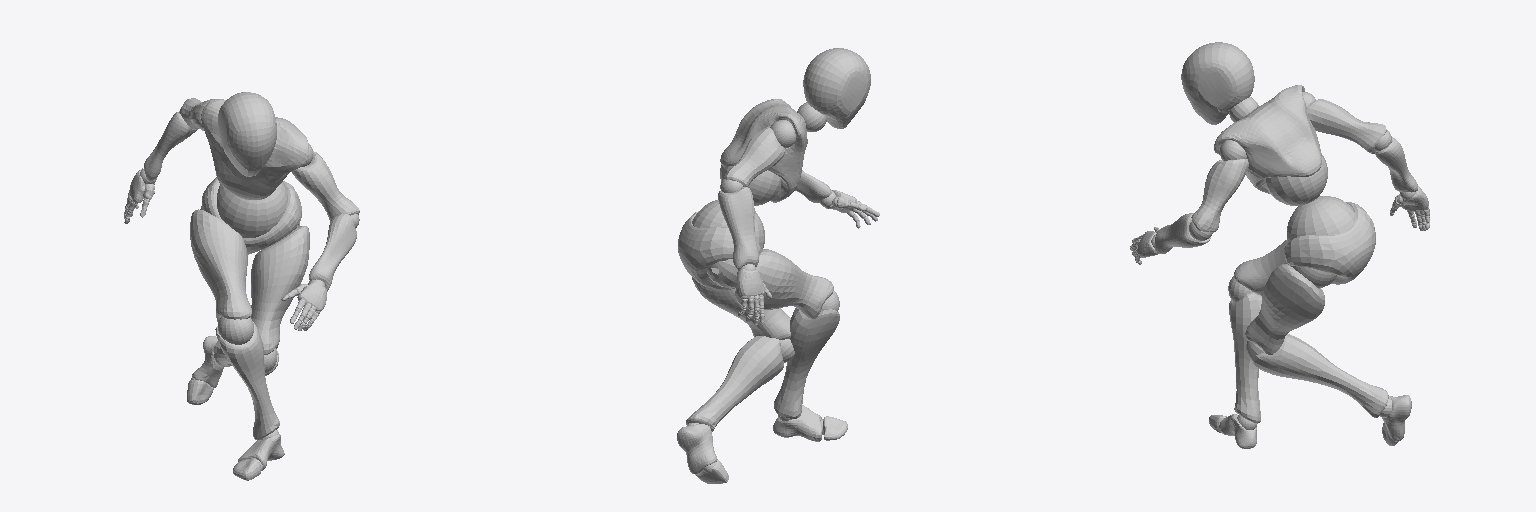
3 views of the same model, side by side, from view 1: azimuth 30°, elevation 25°; view 2: azimuth 150°, elevation 25°; view 3: azimuth 270°, elevation 25° (orthographic).
Visible parts, largest first — view 1: Beta_Surface, Beta_Joints; view 2: Beta_Surface, Beta_Joints; view 3: Beta_Surface, Beta_Joints.
Boxes of the visible parts, <box> form: Beta_Surface: <box>124,92,359,480</box>; Beta_Joints: <box>124,107,359,470</box>; Beta_Surface: <box>677,48,879,483</box>; Beta_Joints: <box>687,102,874,472</box>; Beta_Surface: <box>1130,42,1429,448</box>; Beta_Joints: <box>1130,92,1429,433</box>.
Size of the model in its own units: 0.4901 by 1.41 by 0.9972.